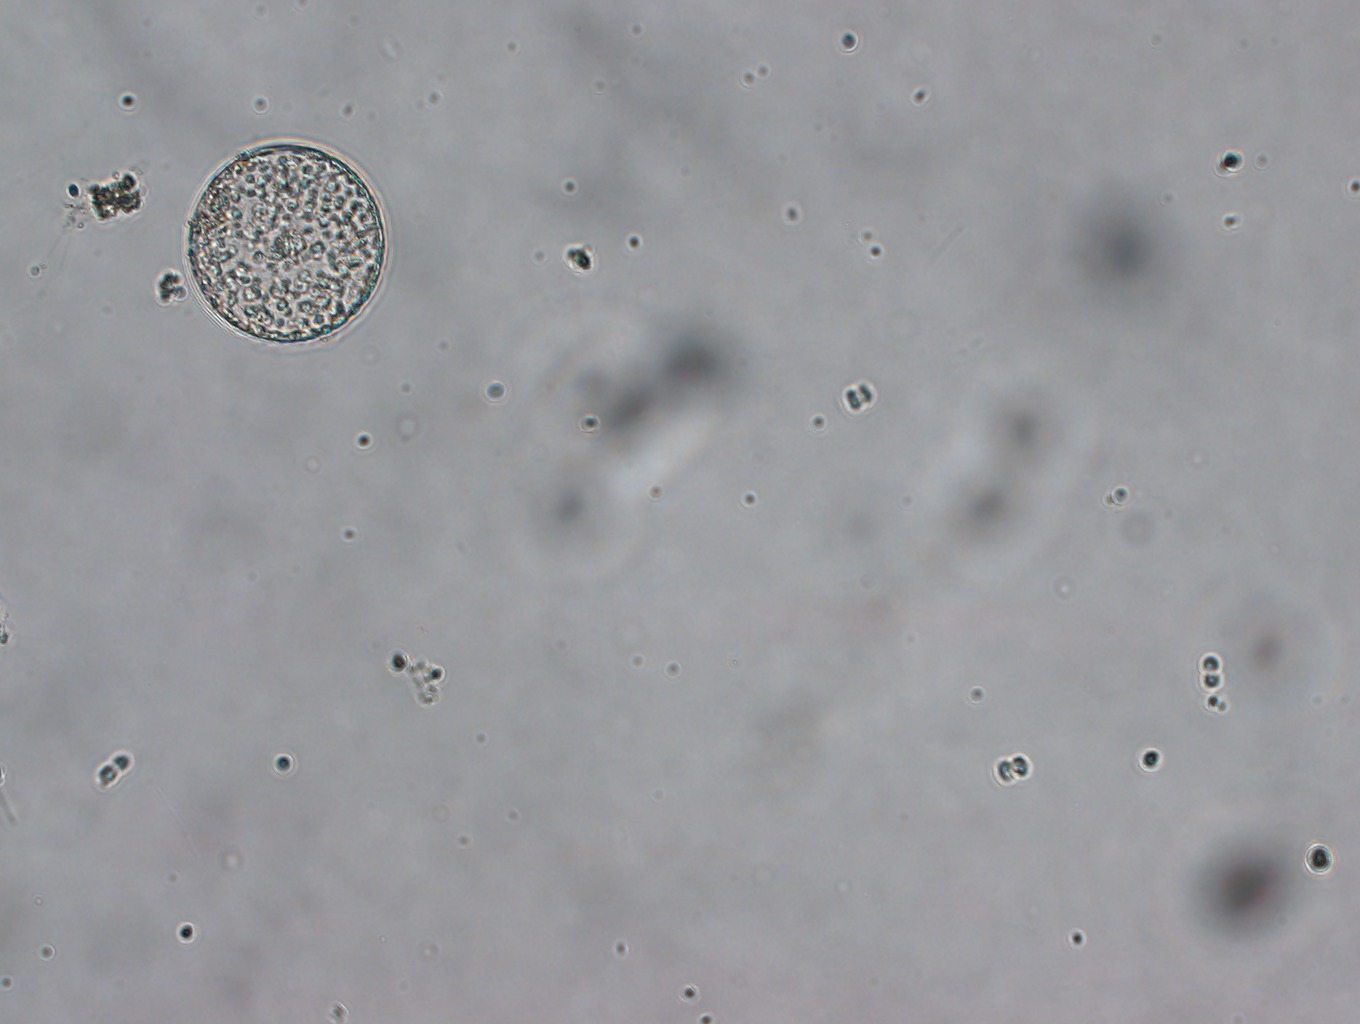coscinodiscus: (178, 132, 393, 353)
